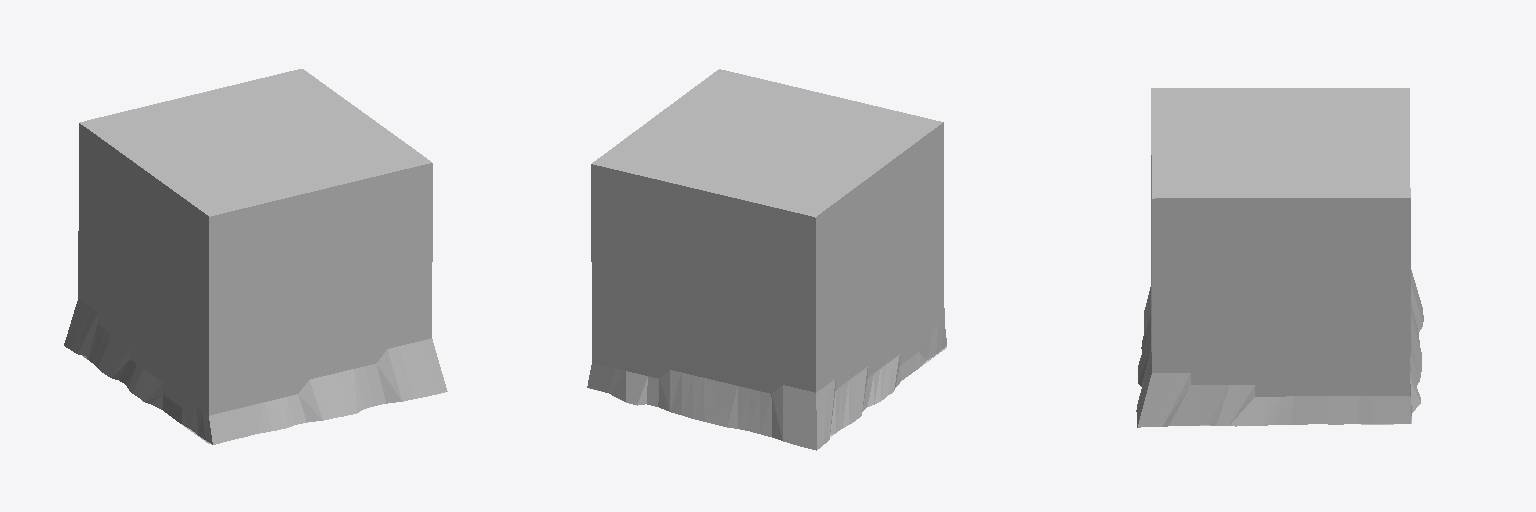
File: mod0177.obj
3 views of the same model, side by side, from view 1: azimuth 30°, elevation 25°; view 2: azimuth 150°, elevation 25°; view 3: azimuth 270°, elevation 25° (orthographic).
Parts seen in each view (by area): view 1: Box001; view 2: Box001; view 3: Box001.
Part boxes in pixels (x1,y1,x2,y2): Box001: (64,69,447,444); Box001: (587,69,946,450); Box001: (1136,88,1423,427).
Size of the model in its own units: 0.5799 by 0.5223 by 0.5979.